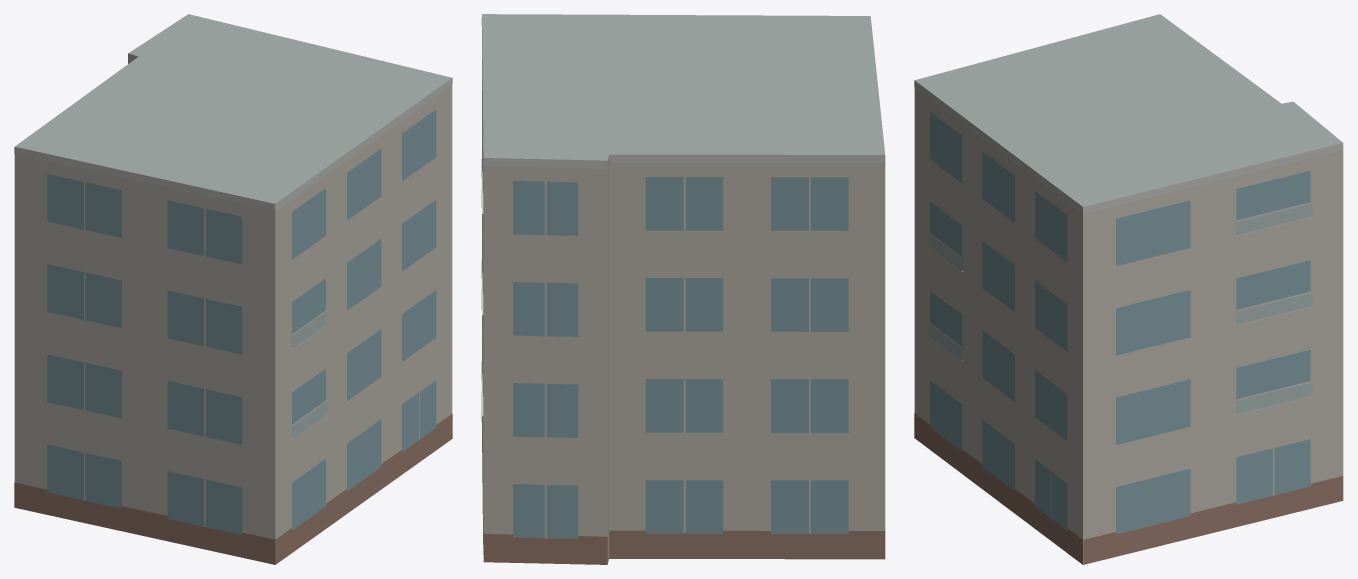
File: survey-upis-32966611.glb
3 renders of one model, left to right at view 1: azimuth 30°, elevation 25°; view 2: azimuth 150°, elevation 25°; view 3: azimuth 270°, elevation 25°, orthographic. The views are drawn at different scales.
Parts seen in each view (by area): view 1: survey-upis-32966611.tmp; view 2: survey-upis-32966611.tmp; view 3: survey-upis-32966611.tmp.
Boxes of the visible parts, left/top/right/bottom form: survey-upis-32966611.tmp: left=14, top=14, right=452, bottom=564; survey-upis-32966611.tmp: left=481, top=14, right=885, bottom=564; survey-upis-32966611.tmp: left=914, top=14, right=1343, bottom=564.
Bounding box in the file's own units: 14.07 × 12.15 × 13.2.
